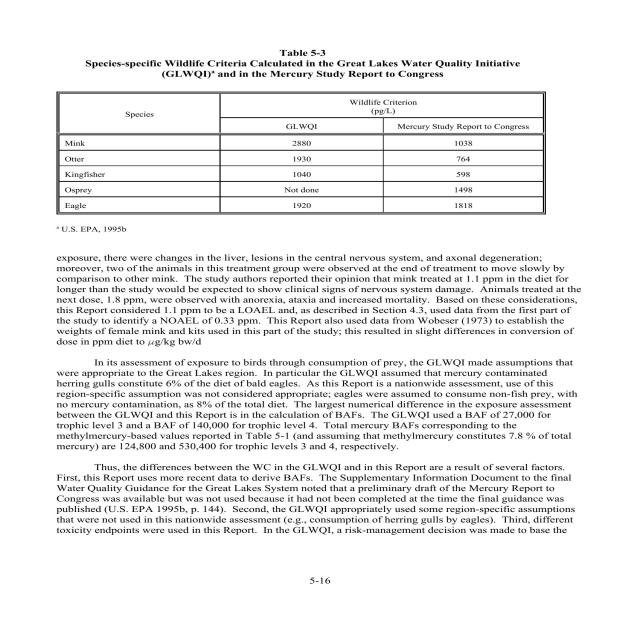table: (64, 98, 529, 208)
